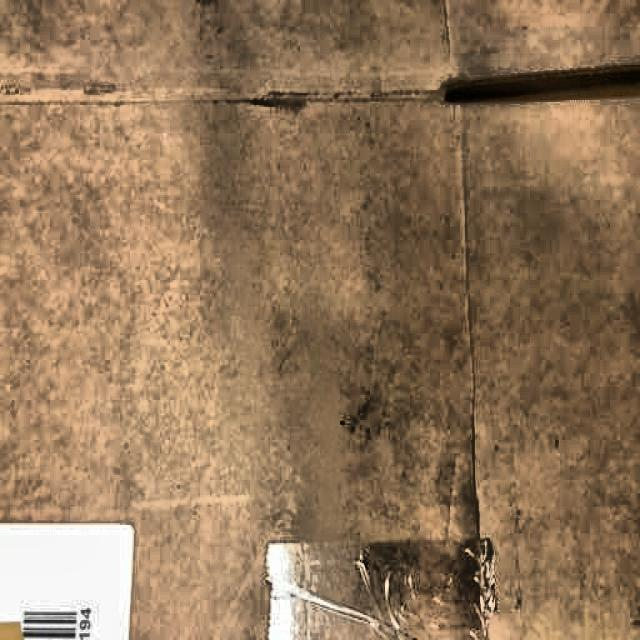cardboard: (9, 8, 631, 633)
